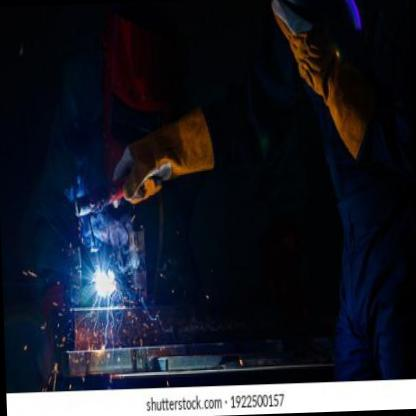Gloves: (112, 108, 218, 213), (298, 37, 368, 158)
